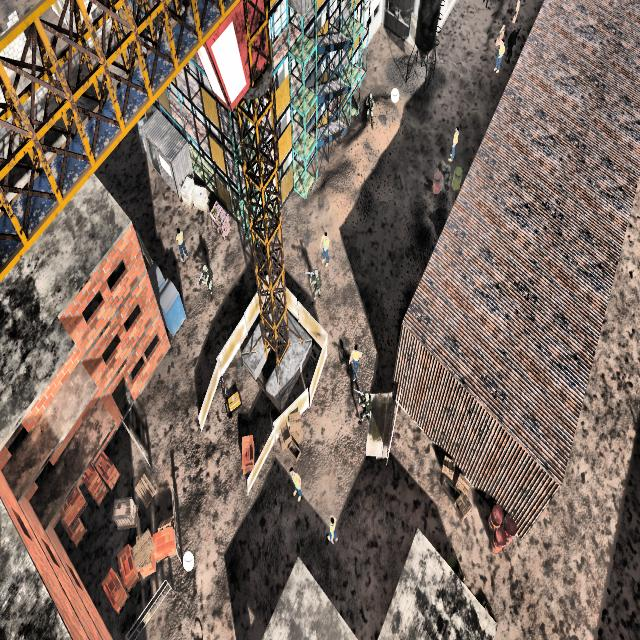bad: (197, 255, 217, 307), (354, 386, 372, 432), (362, 82, 378, 131), (307, 266, 324, 309), (506, 31, 518, 66)
good: (285, 461, 305, 510), (443, 119, 462, 167), (173, 217, 188, 271), (318, 223, 334, 273), (347, 336, 364, 380), (324, 507, 340, 551), (492, 34, 504, 77)
